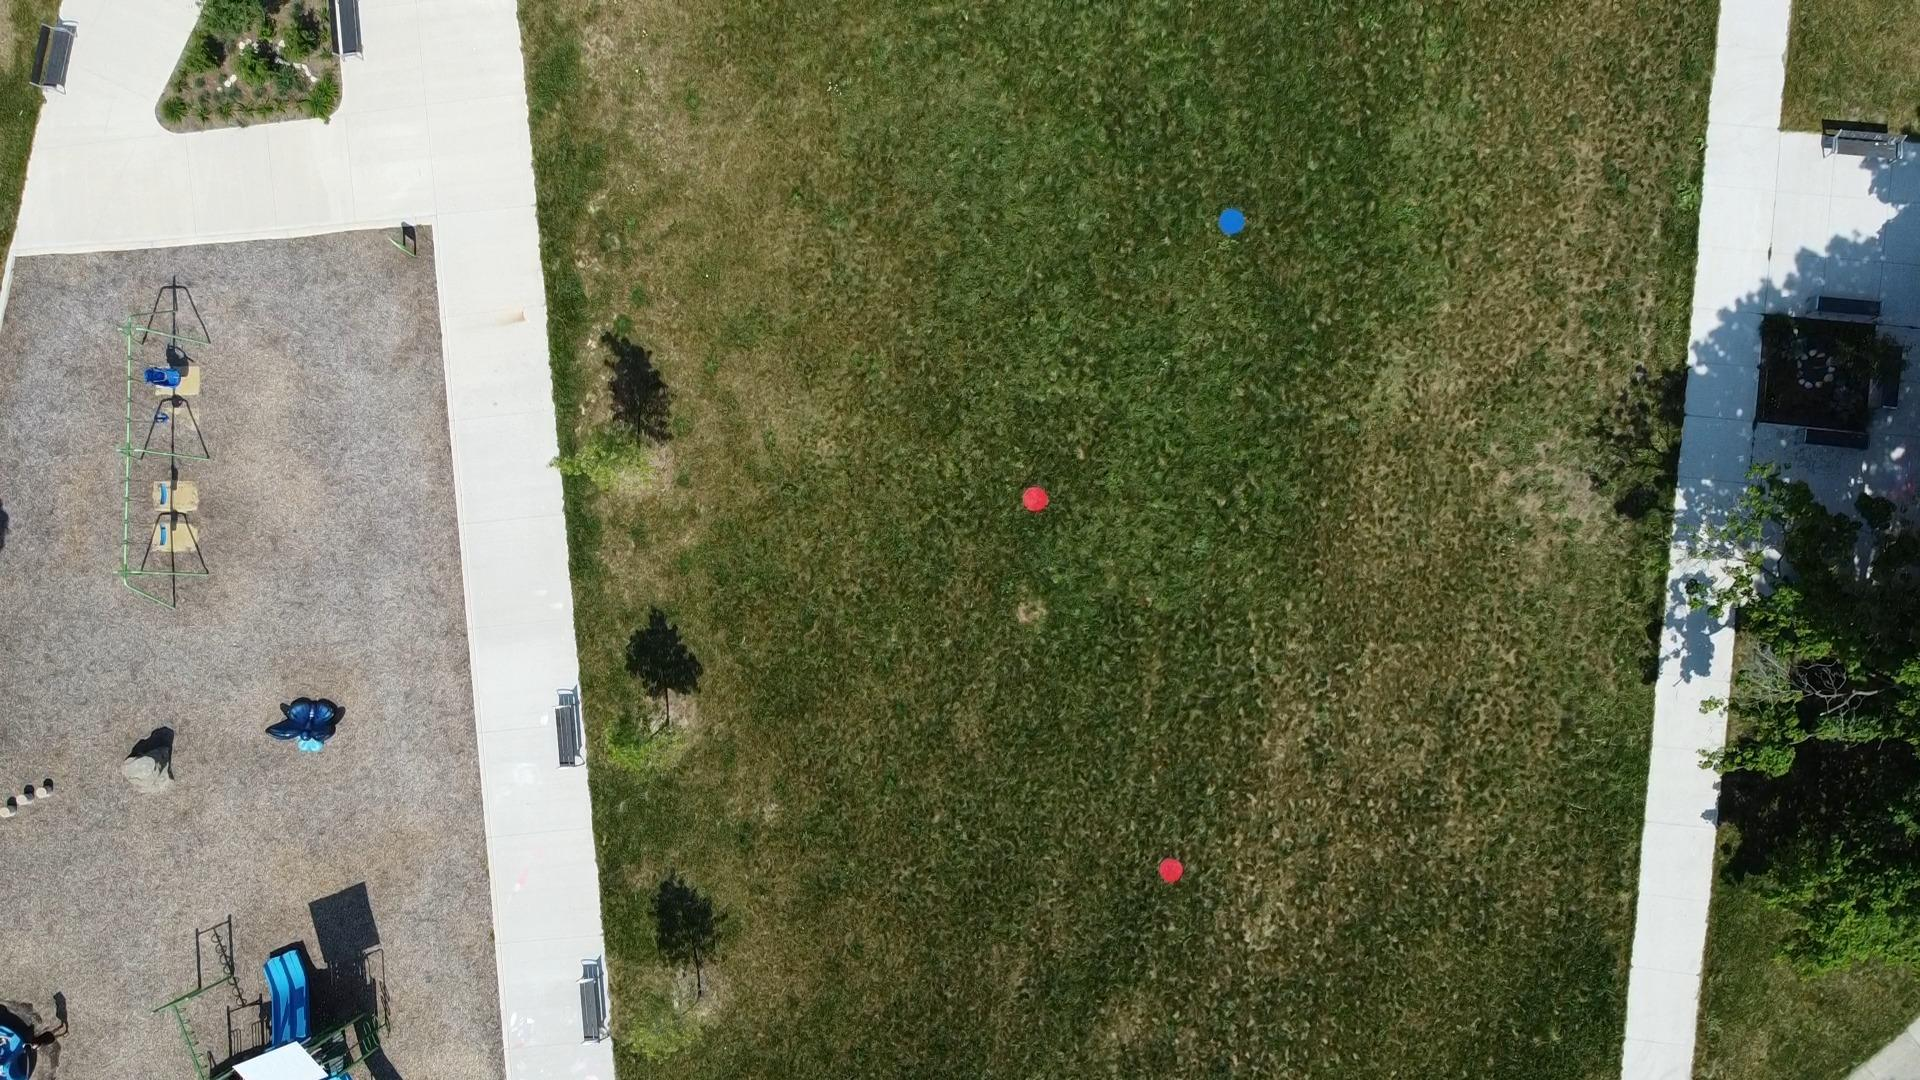Blue: (1218, 207, 1246, 235)
Red: (1022, 485, 1050, 513), (1158, 856, 1184, 882)
